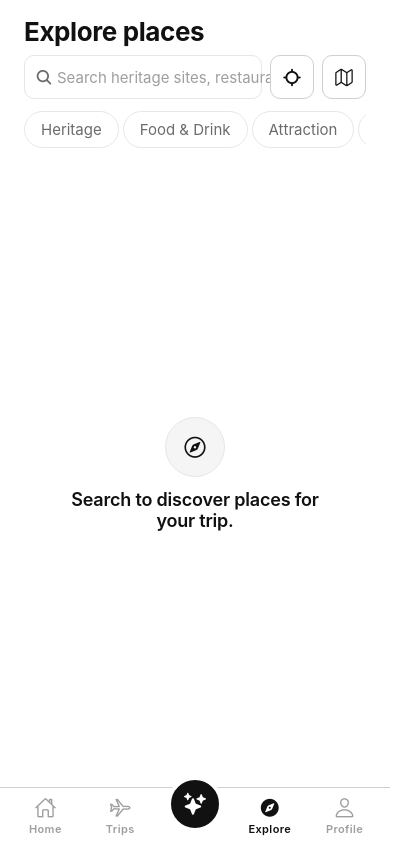
Test case: ExploreScreen › shows the degraded-mode banner when nearby live augmentation is unavailable
What coordinates should you click on to do the following:
click the button with test id "explore-locate-button"
I would click on:
 (292, 77)
Its box is [270,55,314,99].
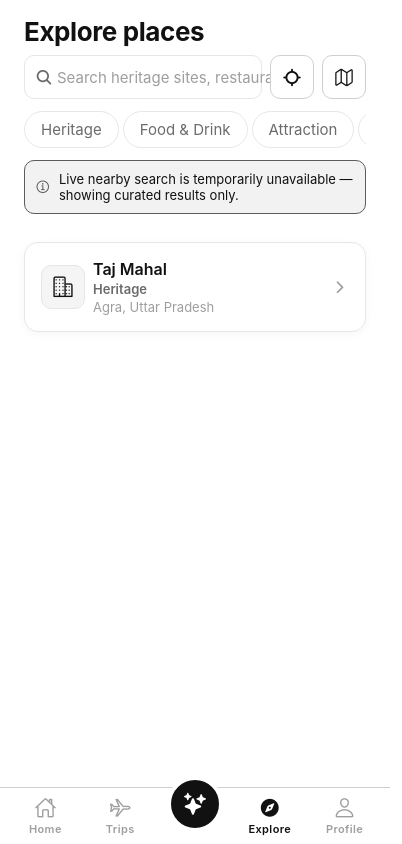
Expected: the element with test id "explore-degraded-banner" is shown, [24,160,366,214]
